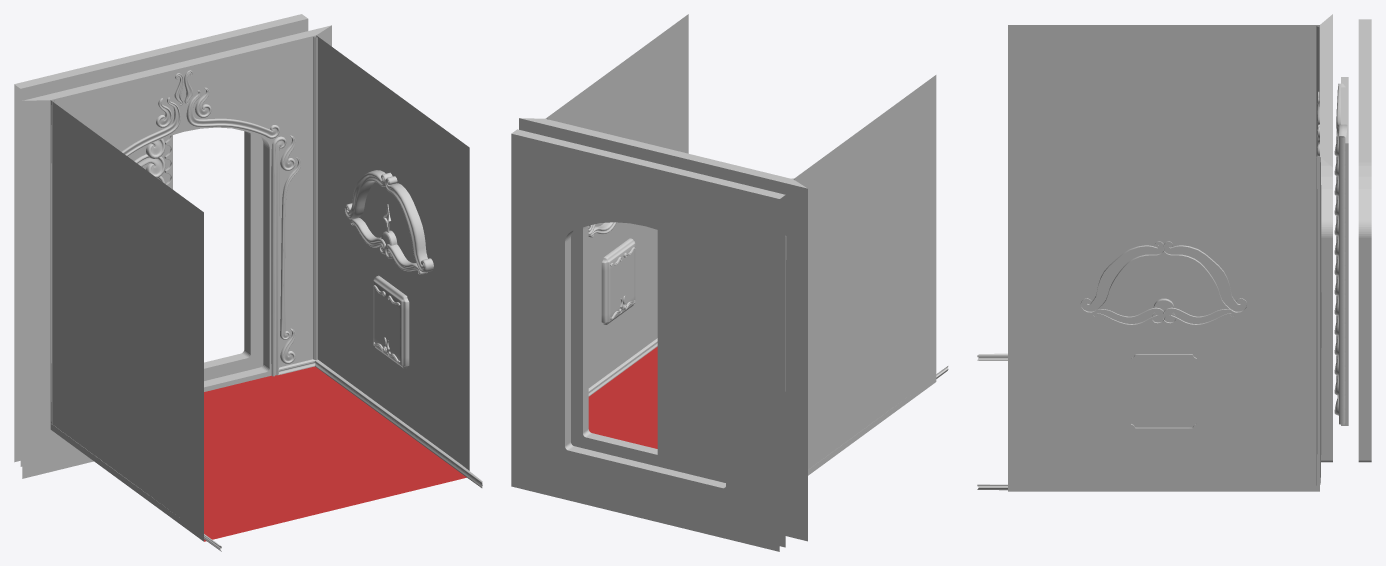
Rendered from elevator_export.fbx.
3 renders of one model, left to right at view 1: azimuth 30°, elevation 25°; view 2: azimuth 150°, elevation 25°; view 3: azimuth 270°, elevation 25°, orthographic. The views are drawn at different scales.
Parts seen in each view (by area): view 1: frame, StoryMeter_frm, buttonFrame, DOORS; view 2: frame, DOORS, buttonFrame; view 3: frame, DOORS, StoryMeter_frm.
Part boxes in pixels (box(x1,y1,x2,y2)): frame: box(14, 14, 482, 551); StoryMeter_frm: box(344, 170, 433, 274); buttonFrame: box(373, 275, 409, 368); DOORS: box(128, 135, 172, 189); frame: box(511, 14, 948, 551); DOORS: box(657, 230, 786, 482); buttonFrame: box(601, 238, 635, 324); frame: box(977, 14, 1371, 491); DOORS: box(1334, 77, 1348, 425); StoryMeter_frm: box(1080, 241, 1247, 324).
Bounding box in the file's own units: 233 × 272 × 253.
